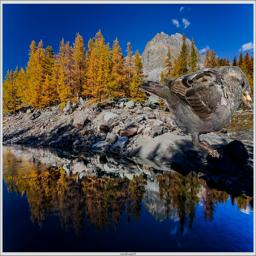Sparrow: (141, 66, 254, 159)
